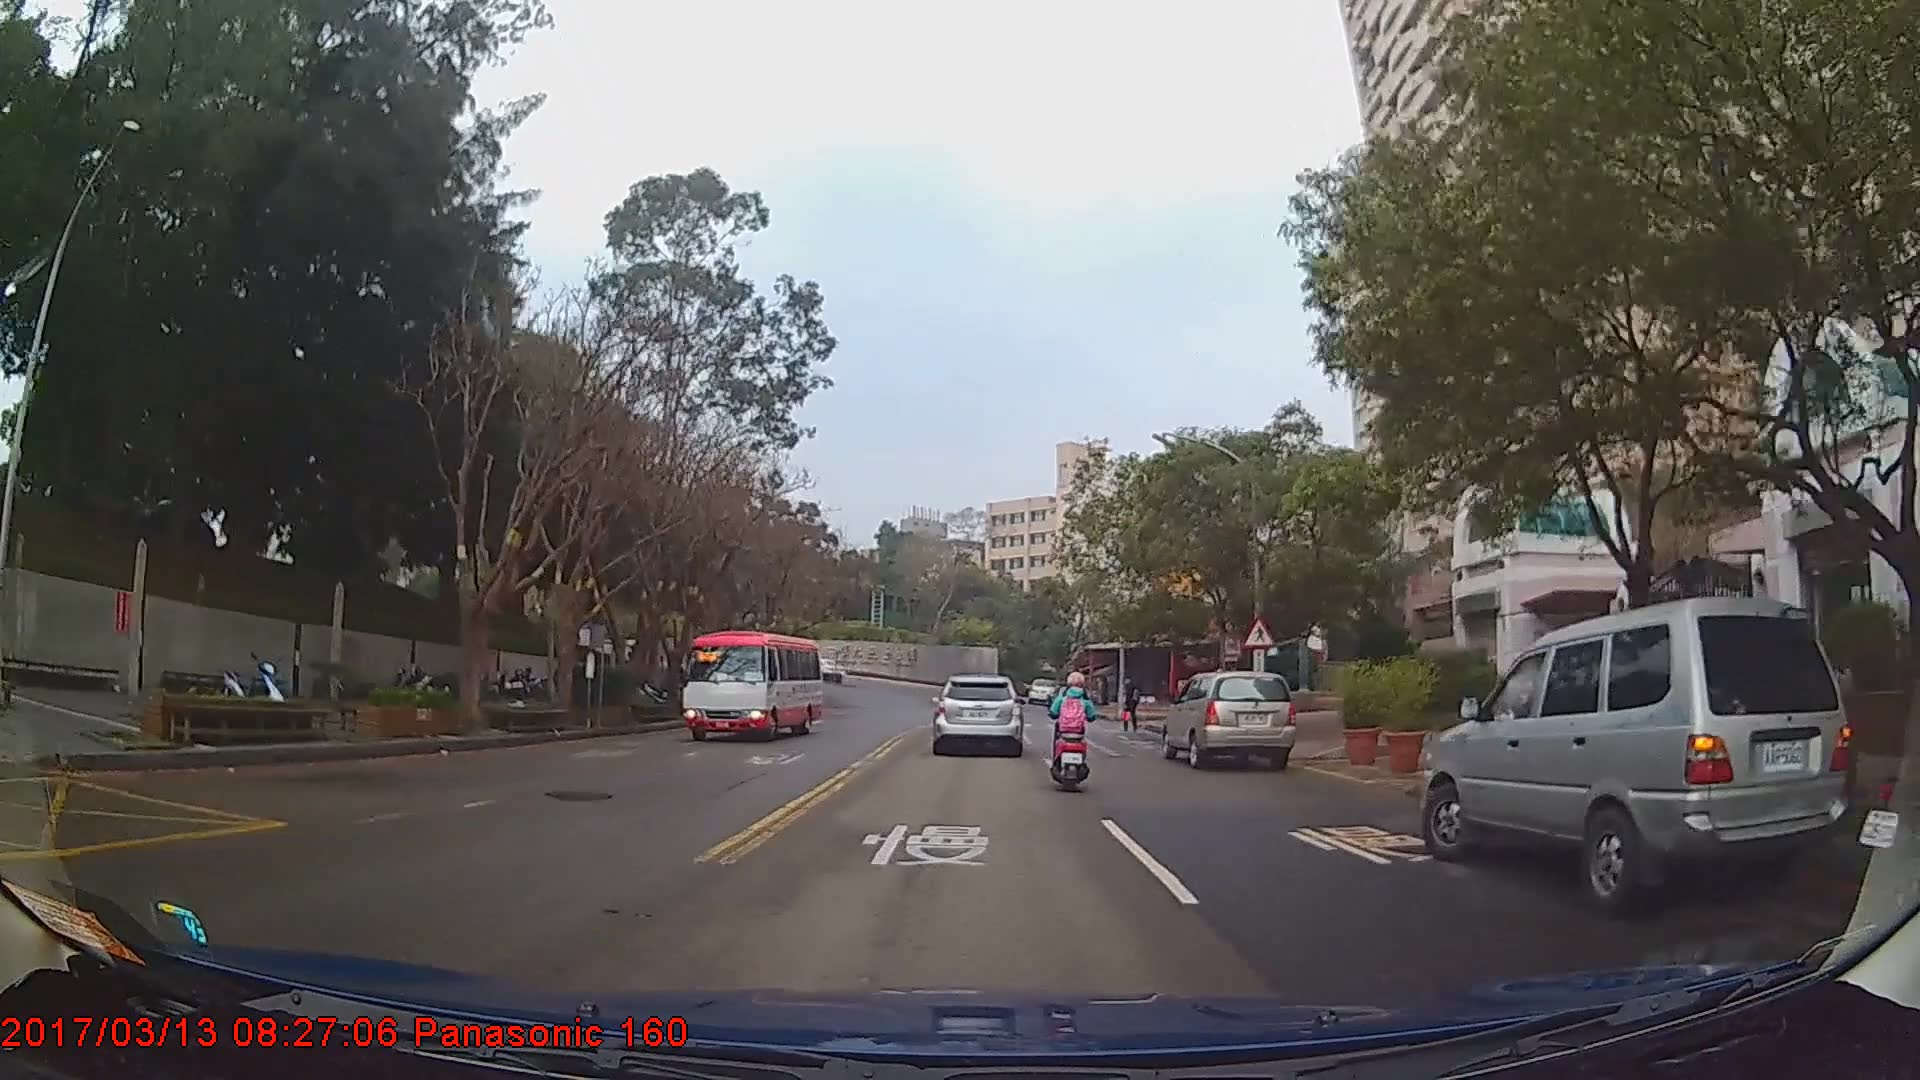pedestrian: (1118, 672, 1143, 736)
rider: (1046, 665, 1101, 795)
vehicle: (1422, 593, 1853, 915), (682, 628, 824, 741), (1159, 670, 1296, 769), (929, 674, 1024, 757), (1026, 677, 1058, 704)
